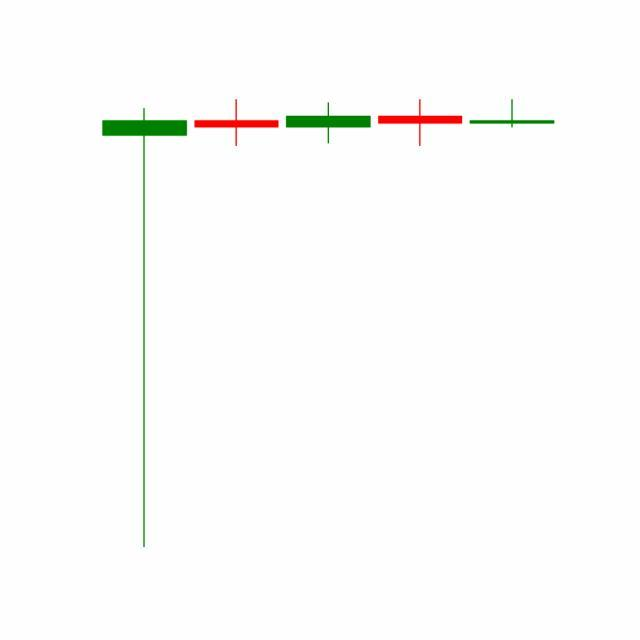Gravestone Doji: (466, 100, 559, 129)
